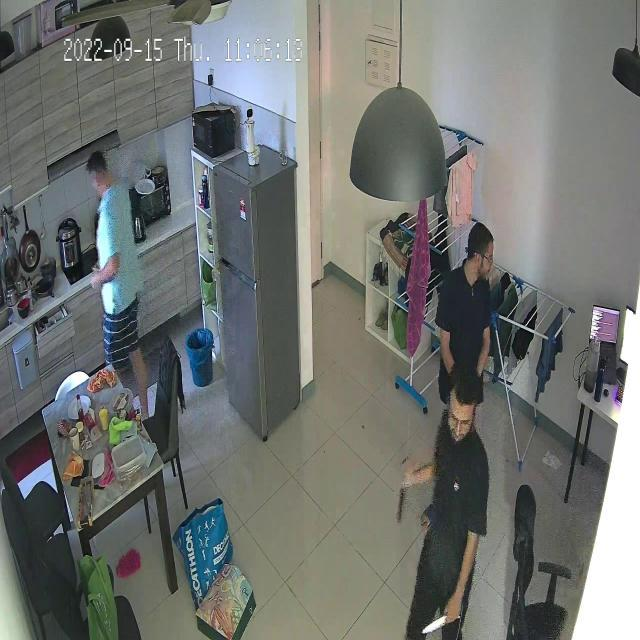Knife: (391, 462, 413, 536), (416, 604, 458, 638)
